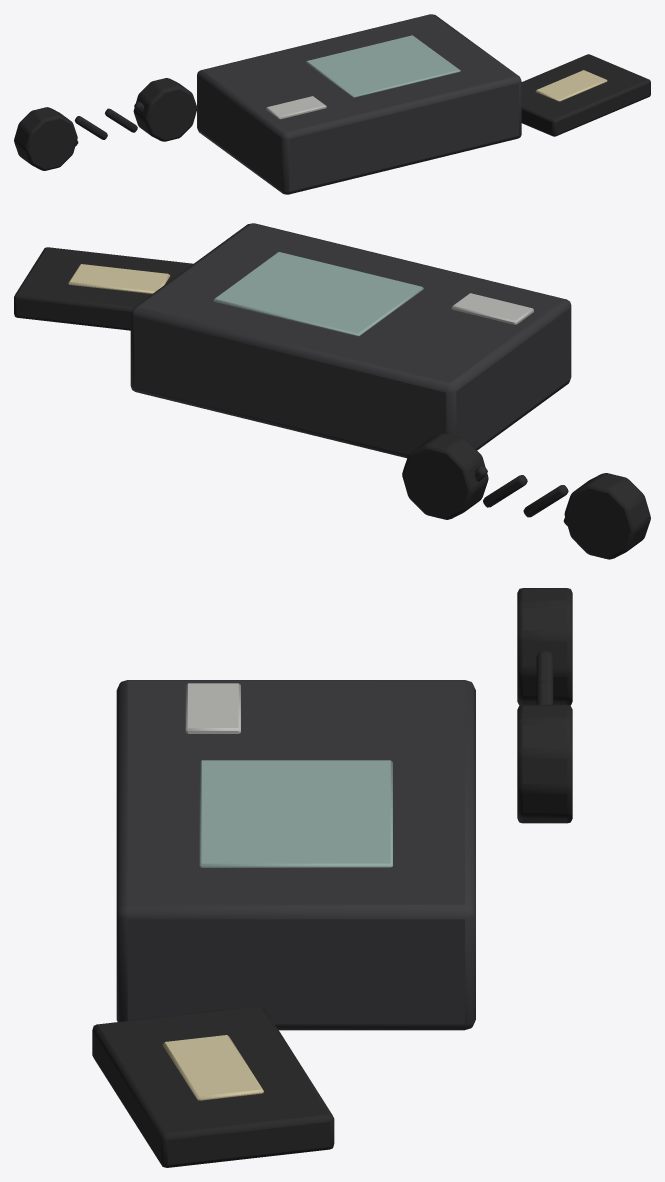
File: Walkman_BangCu.glb
3 views of the same model, one above another, from view 1: azimuth 30°, elevation 25°; view 2: azimuth 150°, elevation 25°; view 3: azimuth 270°, elevation 25° (orthographic). The views are drawn at different scales.
Parts seen in each view (by area): view 1: Walkman_BangCu; view 2: Walkman_BangCu; view 3: Walkman_BangCu.
Part boxes in pixels (x1,y1,x2,y2): Walkman_BangCu: (14,14,650,194); Walkman_BangCu: (14,223,650,559); Walkman_BangCu: (92,588,572,1167).
Bounding box in the file's own units: 0.4478 × 0.0629 × 0.1738.
